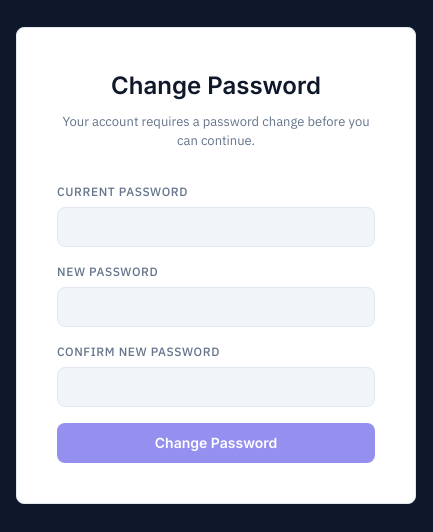
ChangePasswordPage — client-side validation › shows inline error when new password and confirm do not match
Type "oldpass" into the password field labelled "Current Password". click: (216, 226)
box: [57, 206, 375, 246]
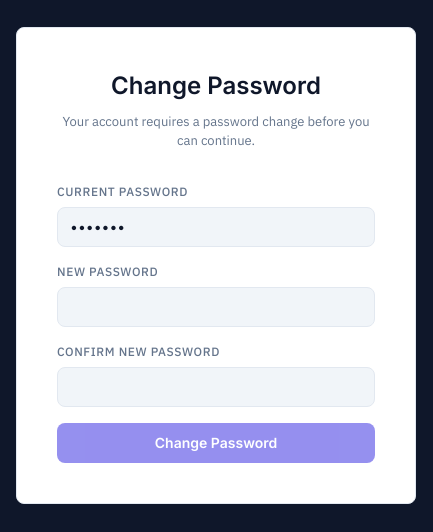
Type "newpass123" into the password field labelled "New Password". click: (216, 306)
box: [57, 286, 375, 326]
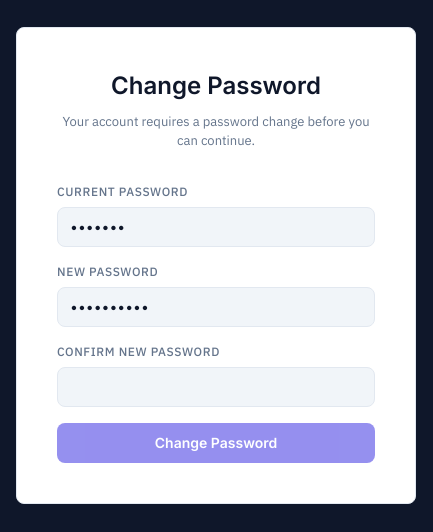
Type "different123" into the password field labelled "Confirm New Password". click: (216, 386)
box: [57, 366, 375, 406]
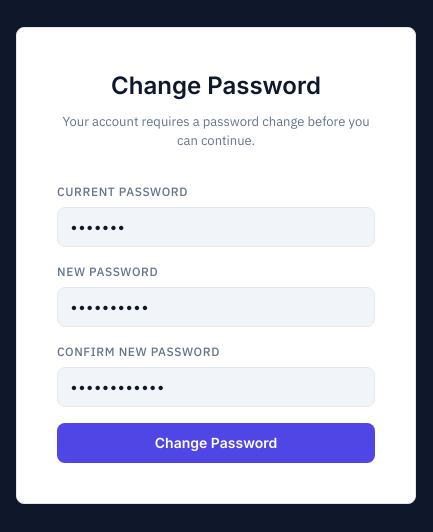
Click the button "Change Password". click: (216, 442)
box: [57, 422, 375, 462]
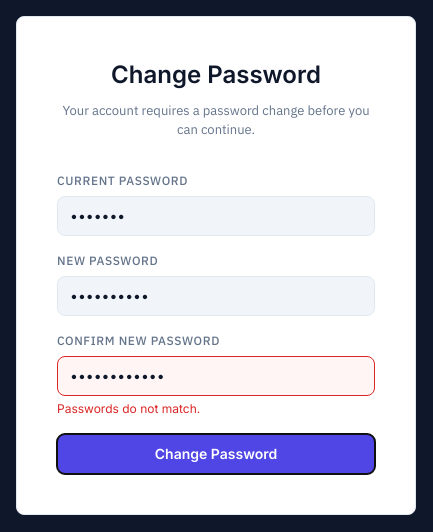
Expected: the text "Passwords do not match." is shown, [57, 400, 200, 416]
